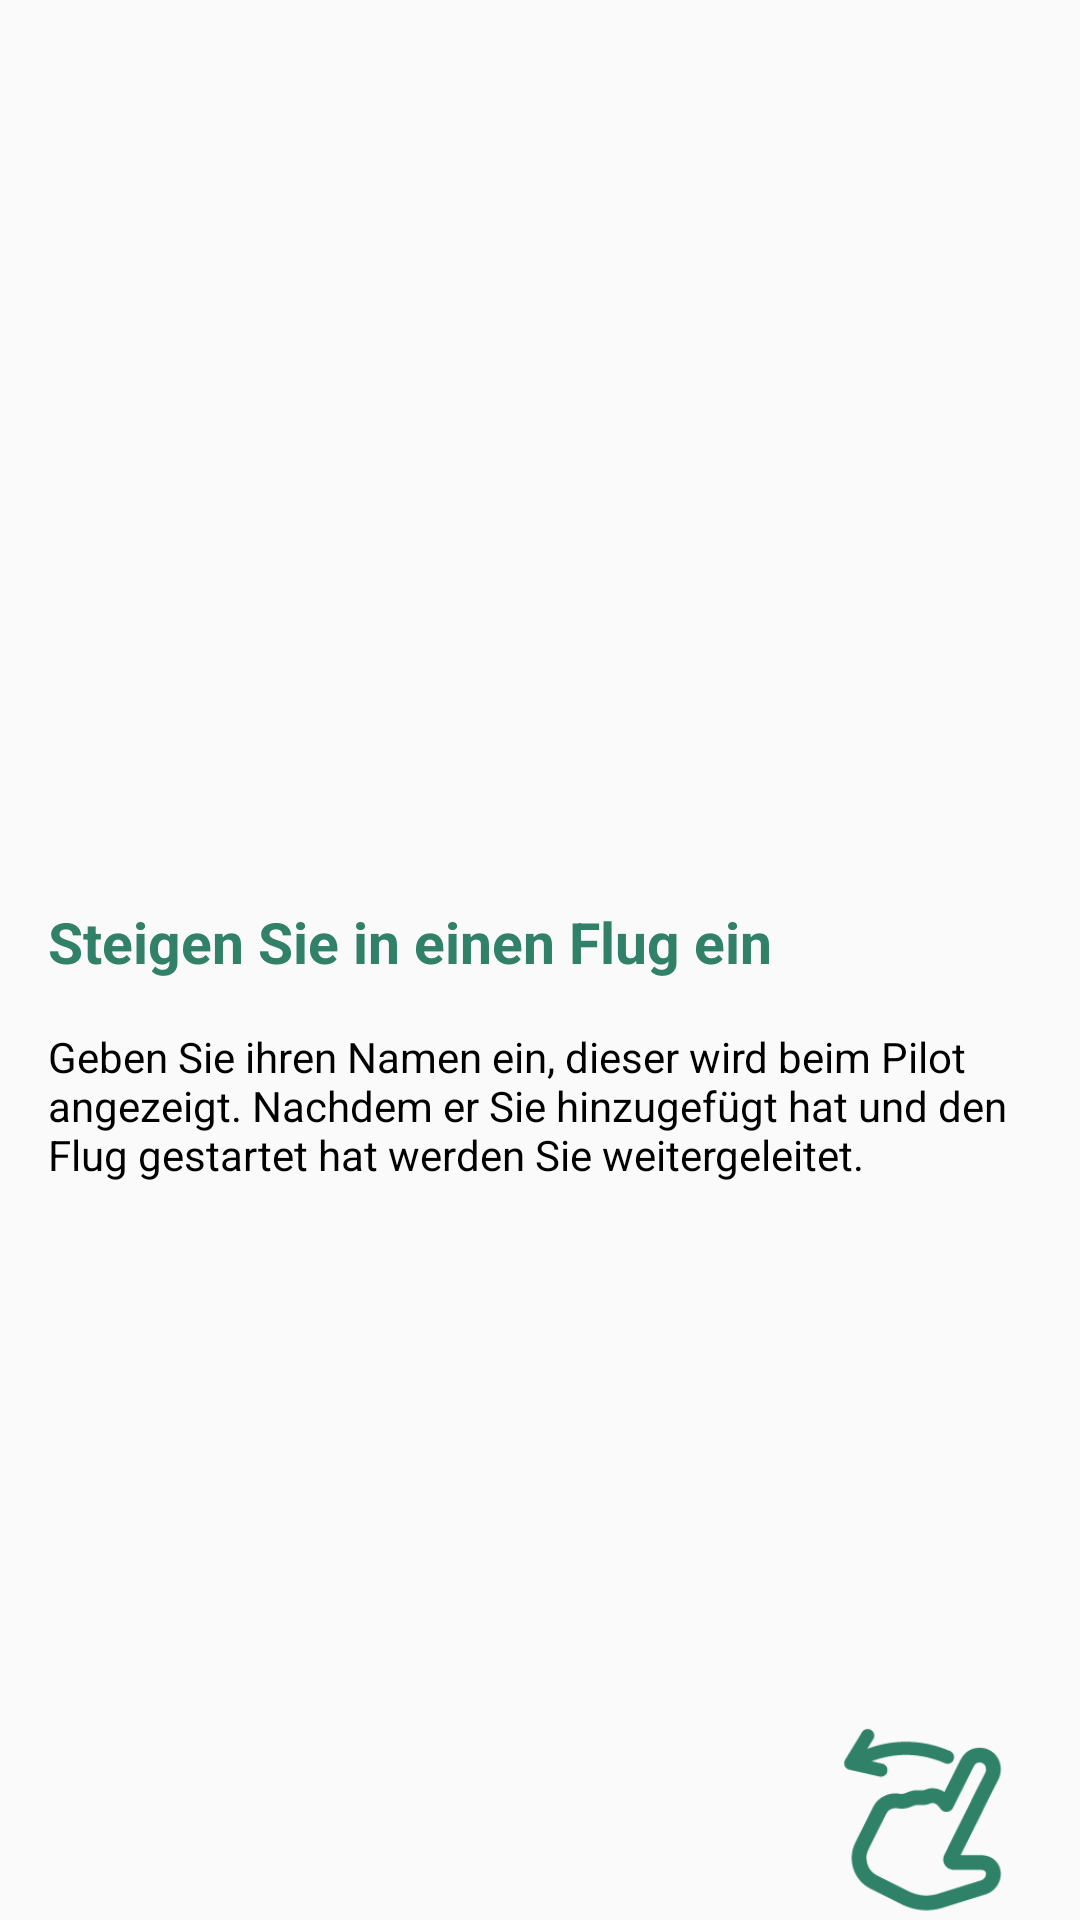

Icons on this 1080 x 1920 Android screen, each with the point to tap as (x,y):
finger swipe: (923,1820)
